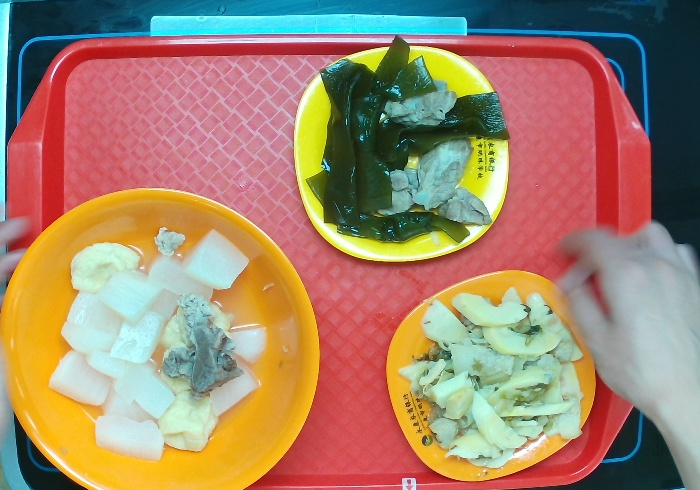YKMZ-Huang_Se_Fang_Die: (290, 41, 513, 261)
YKMZ-Ju_Se_Fang_Die: (382, 269, 599, 484)
YKMZ-Ju_Se_Tang_Wan: (1, 185, 325, 490)
